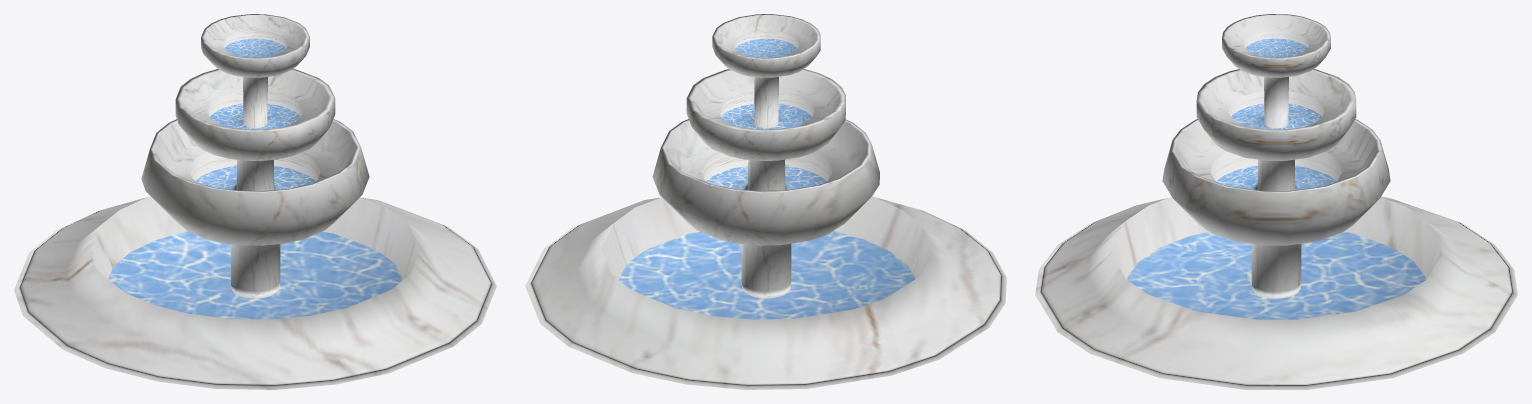
Rendered from fountain_var2 1.fbx.
3 renders of one model, left to right at view 1: azimuth 30°, elevation 25°; view 2: azimuth 150°, elevation 25°; view 3: azimuth 270°, elevation 25°, orthographic.
Parts seen in each view (by area): view 1: polySurface35; view 2: polySurface35; view 3: polySurface35.
Boxes of the visible parts, x1,y1,x2,y2 form: polySurface35: (14,14,496,389); polySurface35: (525,14,1006,389); polySurface35: (1035,14,1517,389).
Bounding box in the file's own units: 5.83 × 3.44 × 5.87.
Materials: 1 (1 with a texture image).
